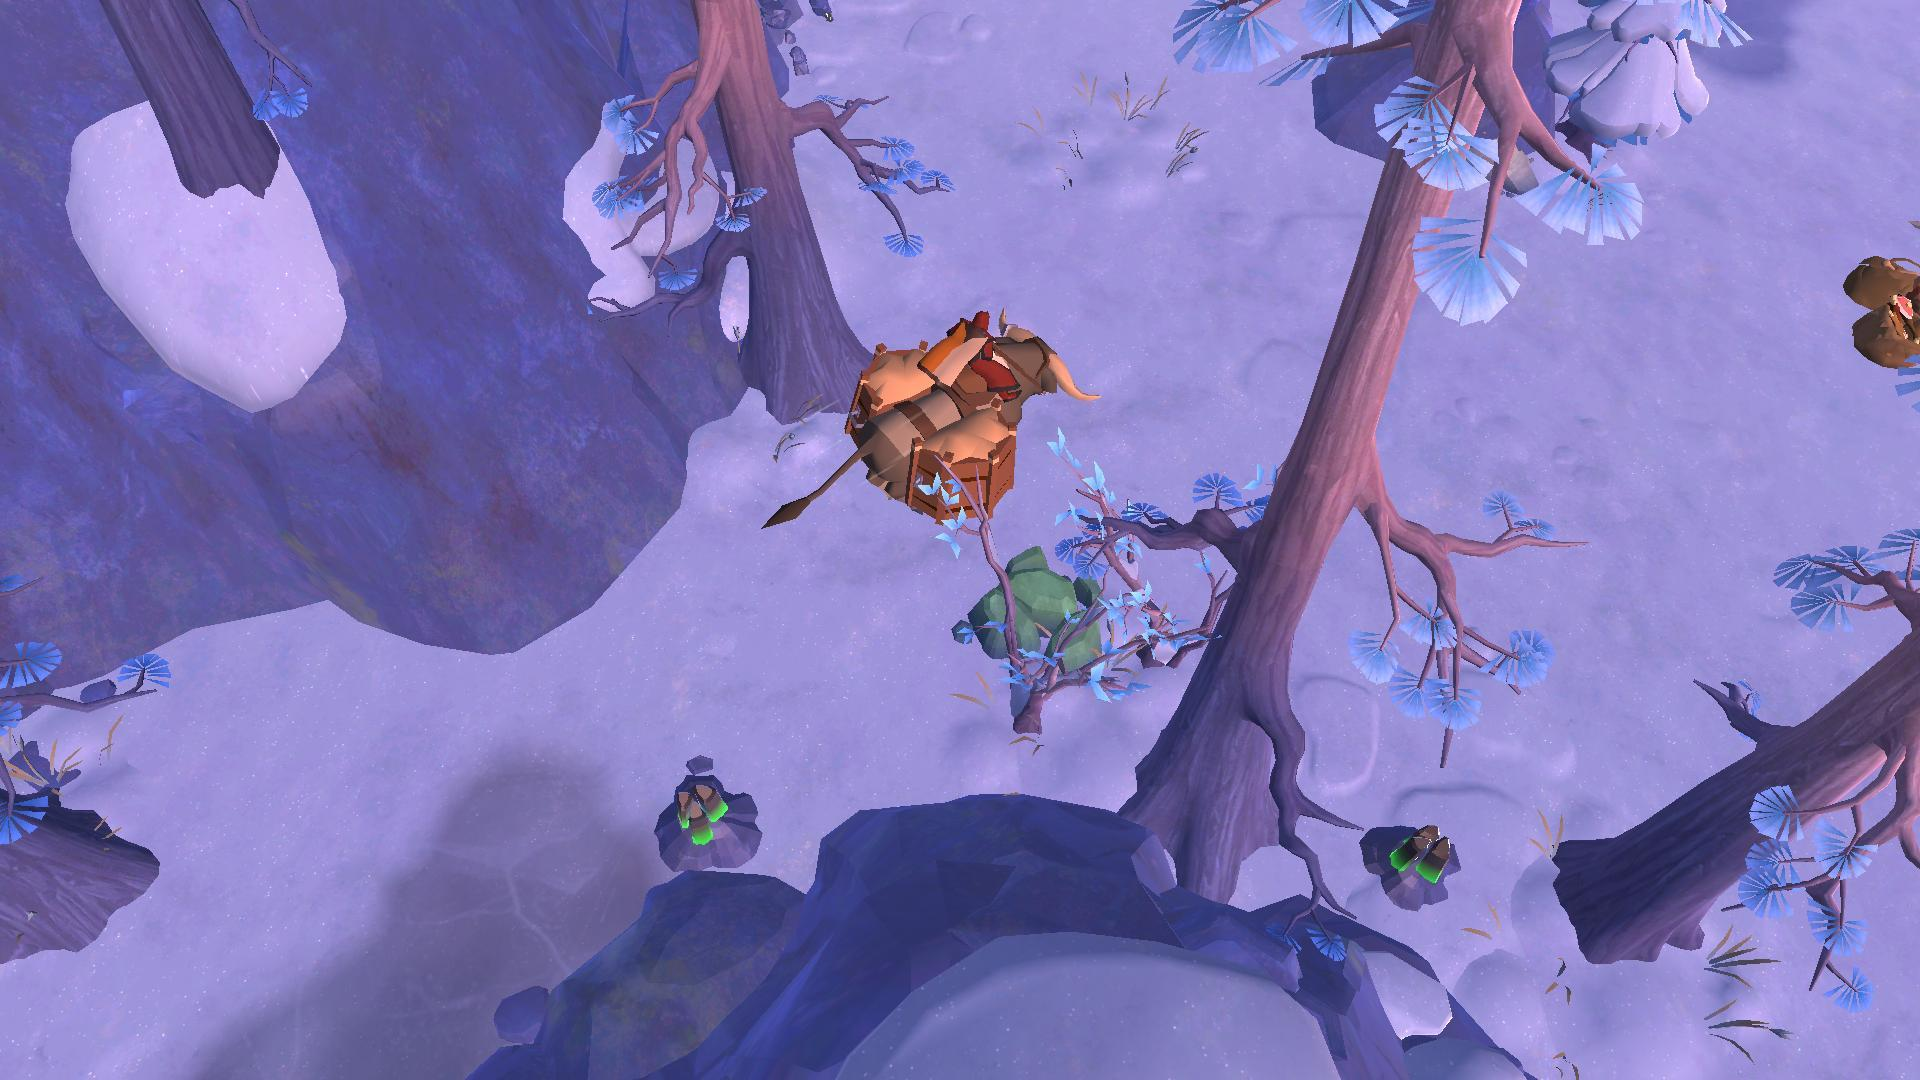ore_t3: (1389, 818, 1460, 895), (667, 769, 732, 849)
rock_t3: (955, 543, 1112, 683)
